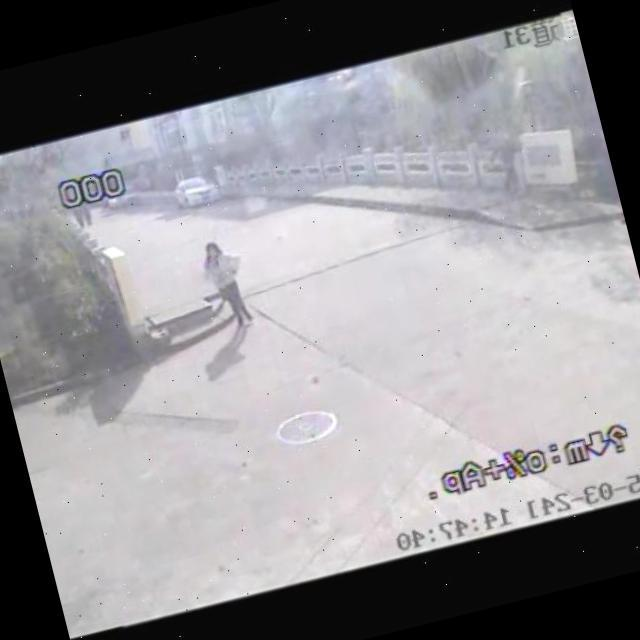person: (190, 230, 264, 336), (480, 130, 532, 205)
